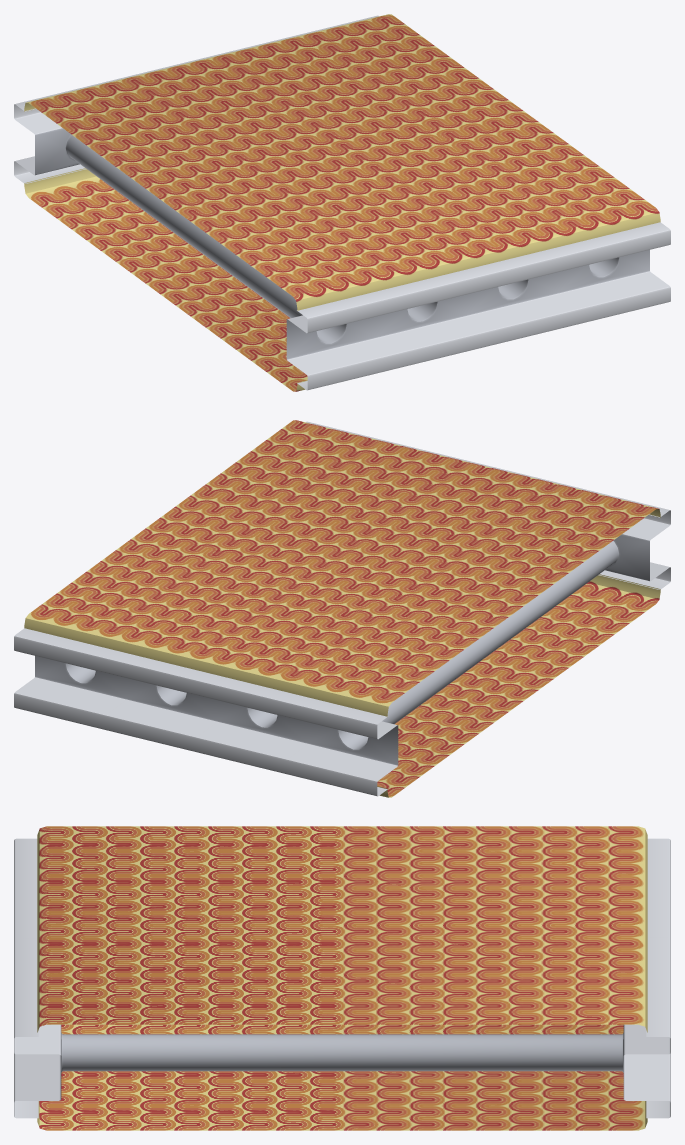
The model's file is SM_Wall_50x200.fbx.
3 views of the same model, one above another, from view 1: azimuth 30°, elevation 25°; view 2: azimuth 150°, elevation 25°; view 3: azimuth 270°, elevation 25° (orthographic). The views are drawn at different scales.
Parts seen in each view (by area): view 1: SM_Wall_50x200; view 2: SM_Wall_50x200; view 3: SM_Wall_50x200.
Boxes of the visible parts, box(x1,y1,x2,y2) form: SM_Wall_50x200: box(14, 14, 670, 391); SM_Wall_50x200: box(14, 420, 670, 797); SM_Wall_50x200: box(14, 826, 670, 1130).
Bounding box in the file's own units: 200 × 280 × 49.9.
1 material, 1 textured.
